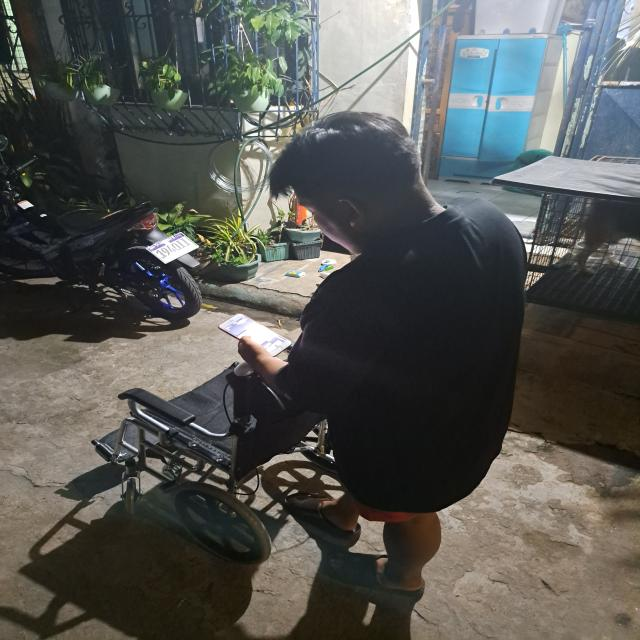wheelchairs: (80, 338, 392, 570)
